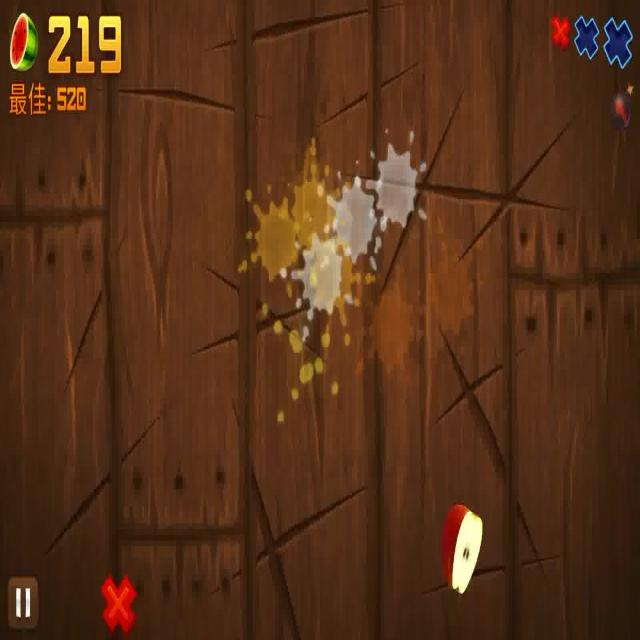fruit: (442, 502, 483, 596)
